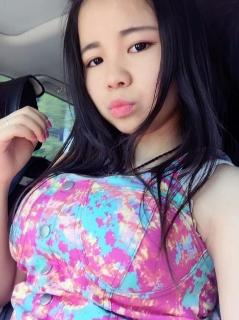sling dress: (9, 138, 232, 319)
